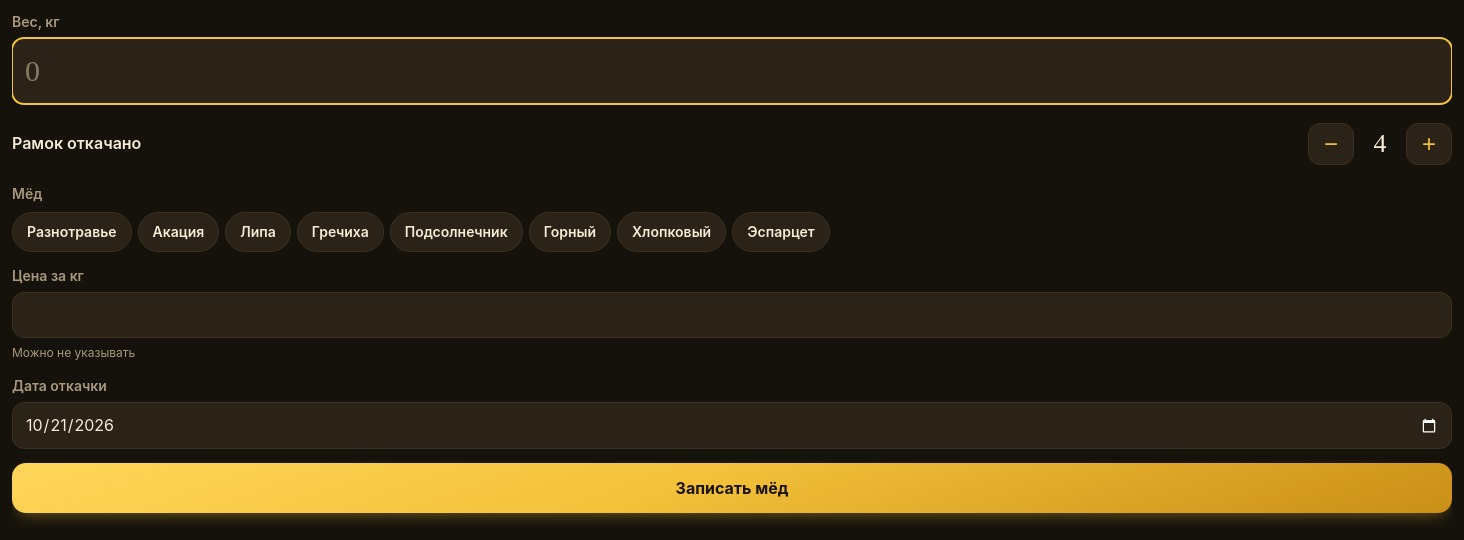
Scenario: Honey form › shows the computed sum and sends weight, frames and price
Later steps or results of the test are not shown.
Type "12,5" into the field labelled "Вес, кг". click: (732, 71)
box: [12,38,1452,104]
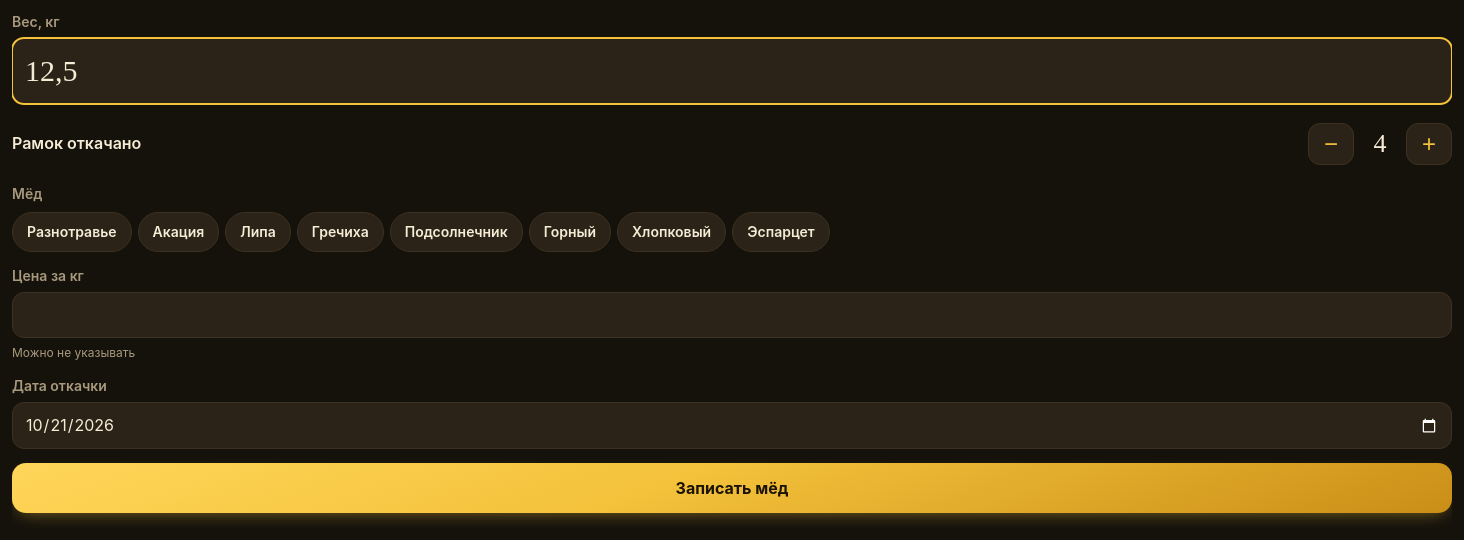
Type "80" into the field labelled "Цена за кг Можно не указывать". click: (732, 315)
box: [12,292,1452,338]
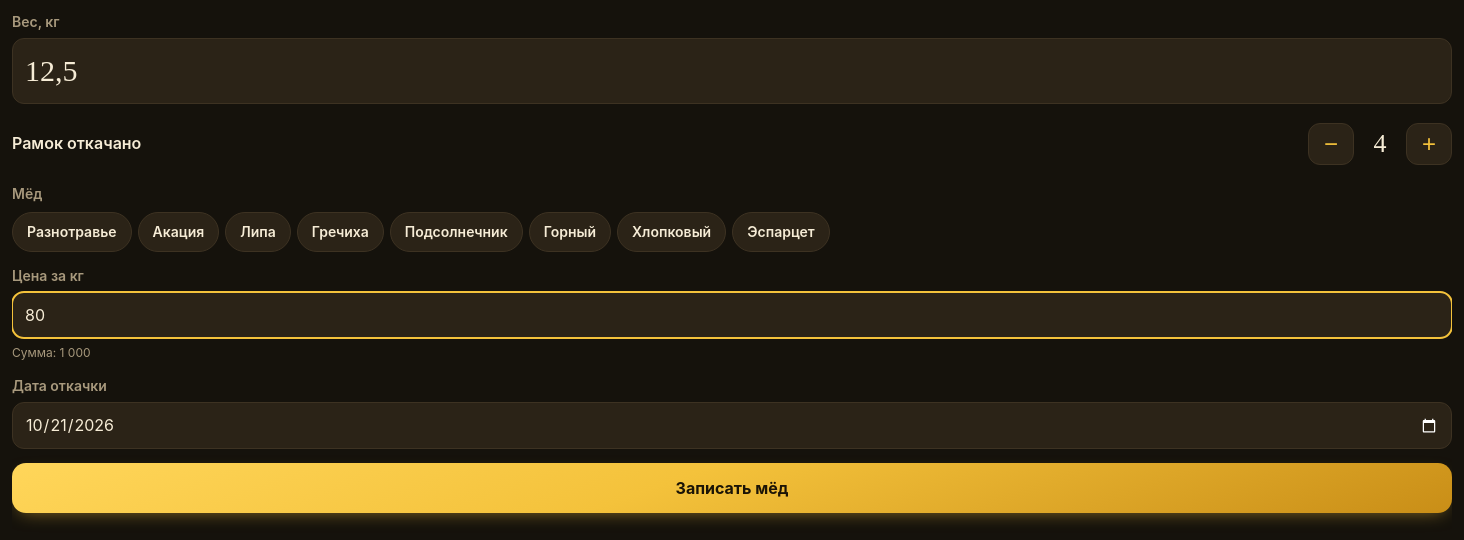
Expected: the text "Сумма: 1 000" is shown, [12,345,90,360]
